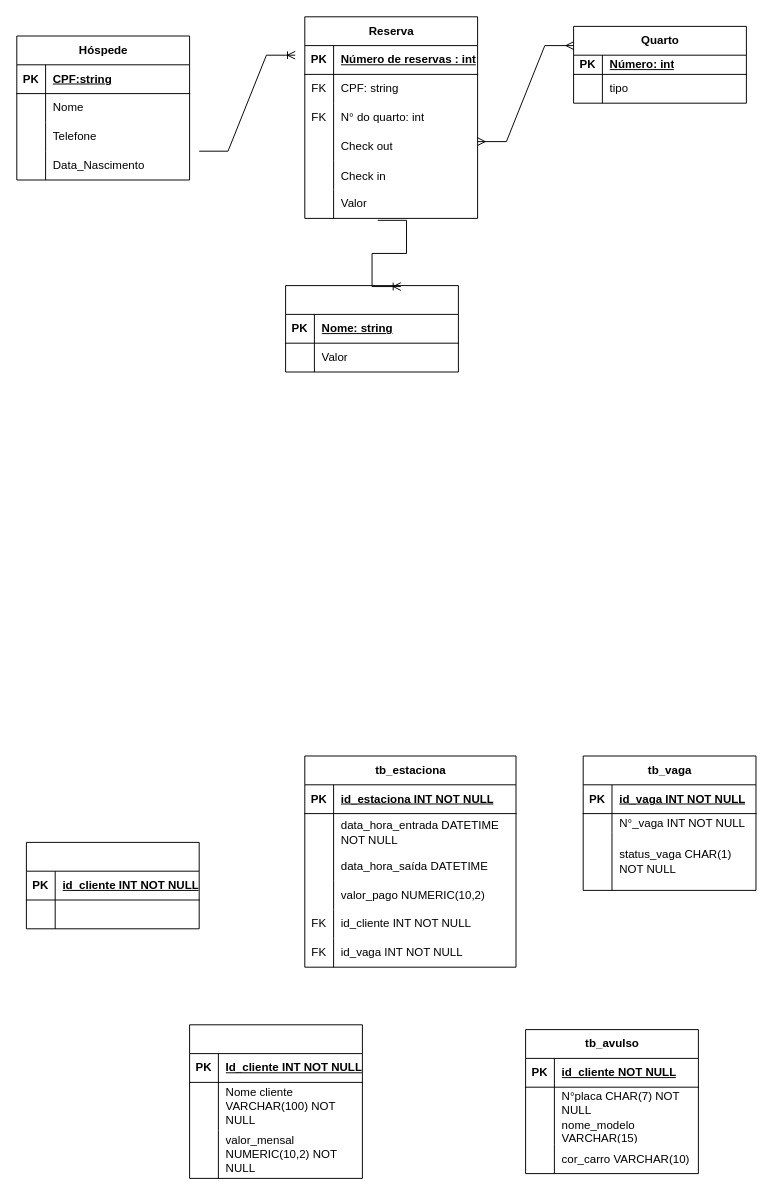
Image size: 773x1195. Some labels were removed from this diagram. Here are the shapes that lost their labels. From the top down, the box of each, then its label:
(285, 285, 458, 372): Serviço
(25, 841, 199, 929): tb_cliente
(189, 1024, 362, 1178): tb_mensalista
